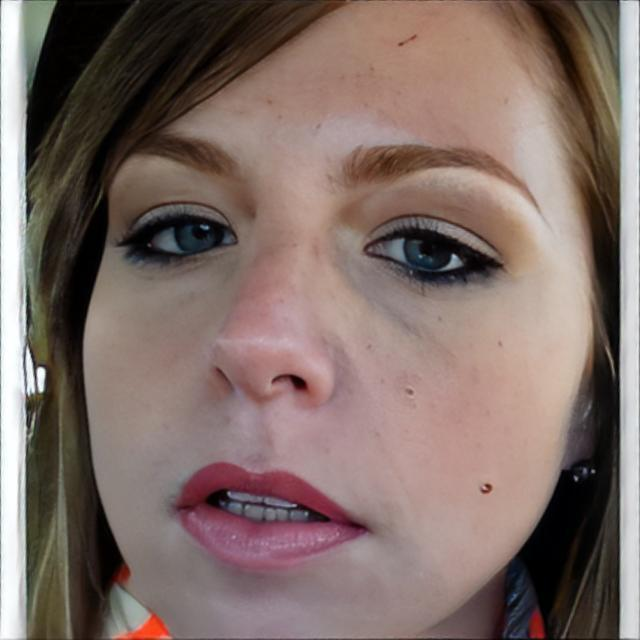neutral: (81, 3, 593, 640)
